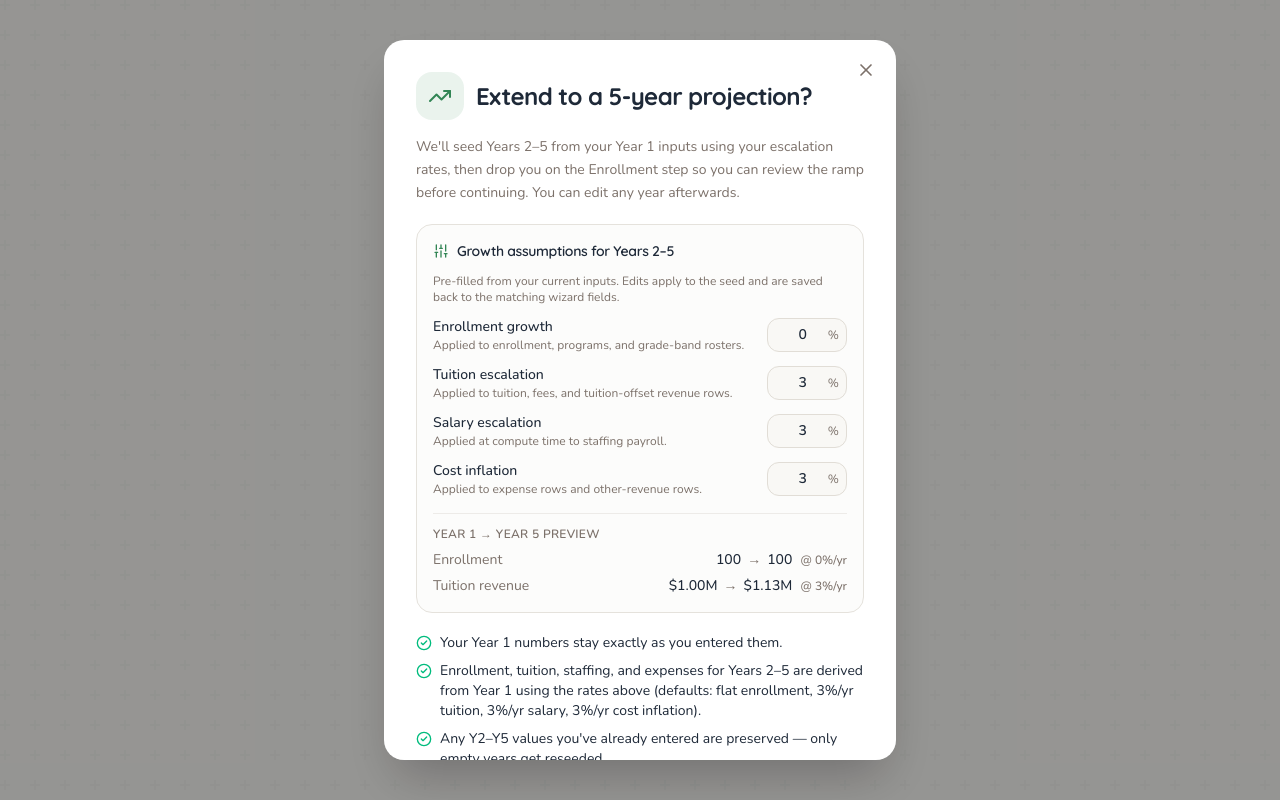
ExtendToFiveYearModal › updates the preview when the founder edits the enrollment growth rate
Expected: the text with test id "extend-preview-enrollment-y5" reads "100", 767,550 -> 792,569
Replace the text in the number field with test id "extend-rate-enrollment" with "10". click: point(807, 335)
box: 767,318 -> 847,352
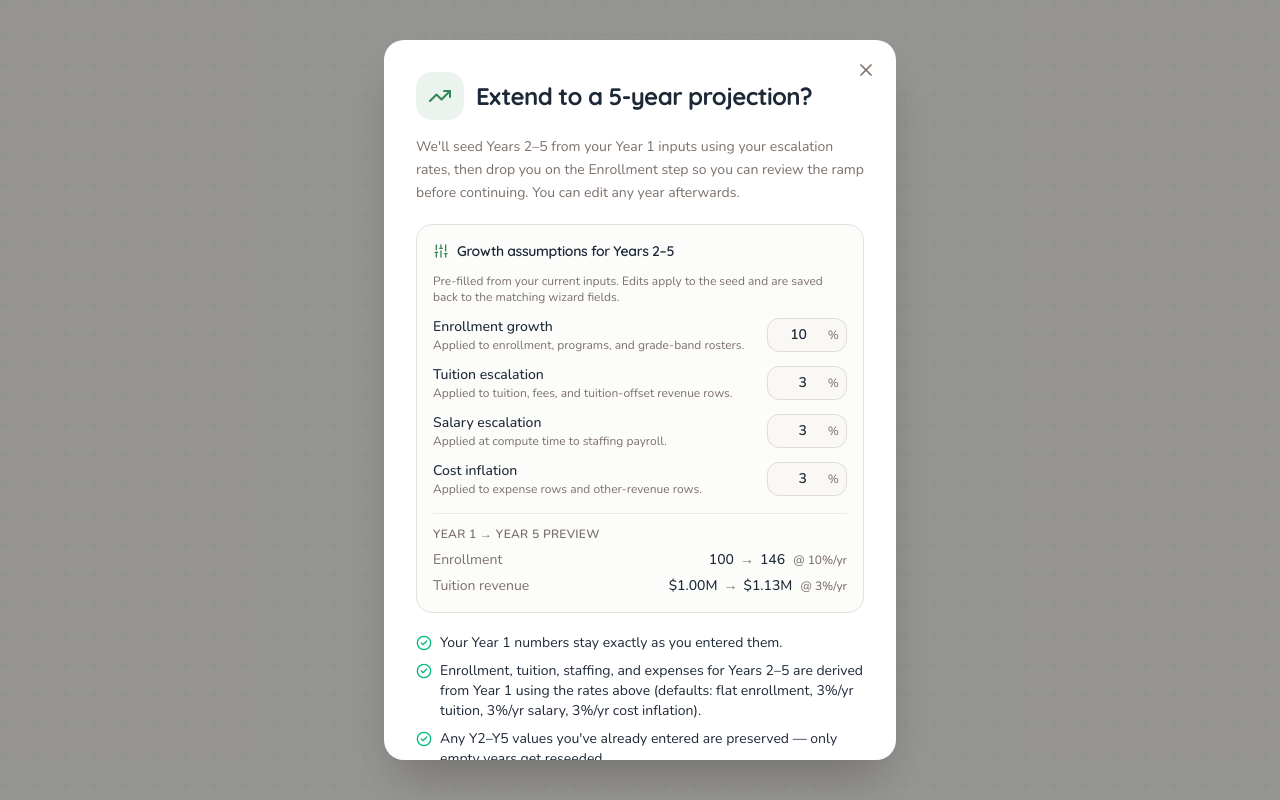
Now the text with test id "extend-preview-enrollment-y5" reads "146", box 760,550 -> 785,569
